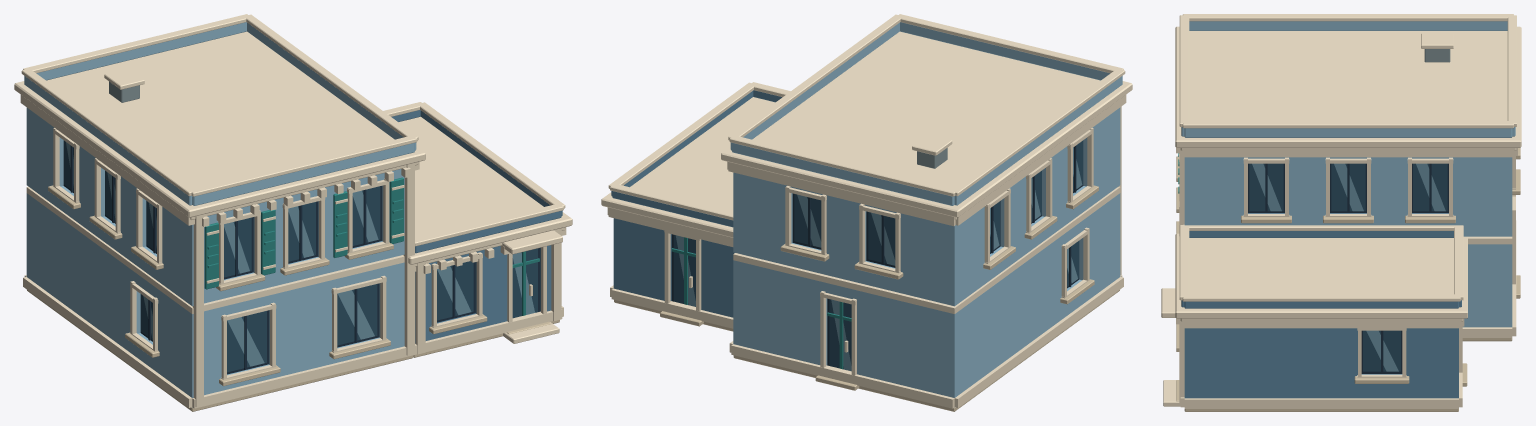
Rendered from split_level_home.glb.
3 renders of one model, left to right at view 1: azimuth 30°, elevation 25°; view 2: azimuth 150°, elevation 25°; view 3: azimuth 270°, elevation 25°, orthographic.
Visible parts, largest first — view 1: SplitLevelHome_StaticMesh; view 2: SplitLevelHome_StaticMesh; view 3: SplitLevelHome_StaticMesh.
Part boxes in pixels (left/top/right/bottom): SplitLevelHome_StaticMesh: left=14, top=14, right=572, bottom=411; SplitLevelHome_StaticMesh: left=601, top=14, right=1132, bottom=411; SplitLevelHome_StaticMesh: left=1161, top=14, right=1521, bottom=411.
Size of the model in its own units: 12.32 by 6.95 by 10.11.
